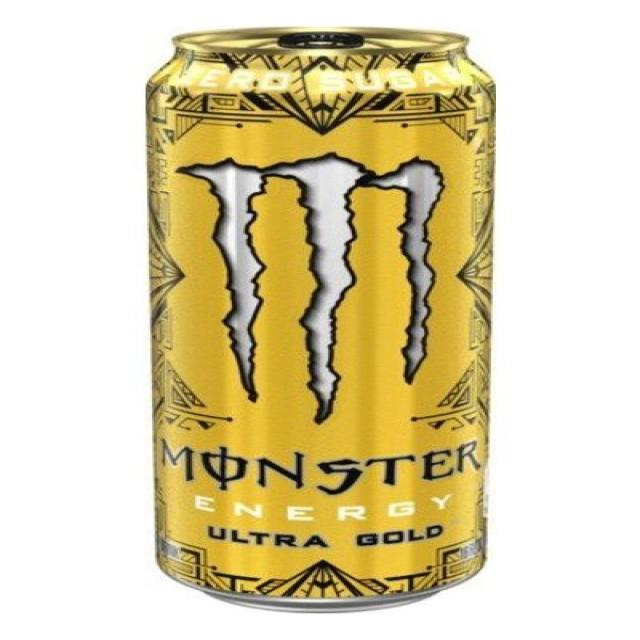Cans: (132, 17, 506, 639)
